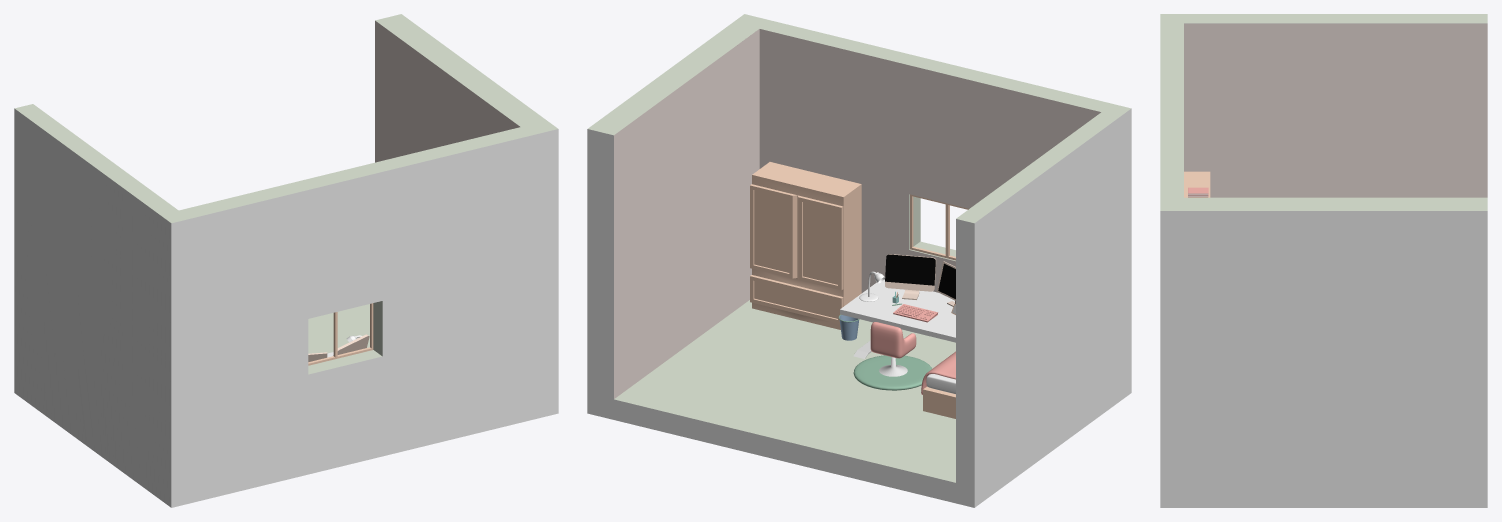
File: Study_Room_15.glb
3 renders of one model, left to right at view 1: azimuth 30°, elevation 25°; view 2: azimuth 150°, elevation 25°; view 3: azimuth 270°, elevation 25°, orthographic. The views are drawn at different scales.
Parts seen in each view (by area): view 1: Room, Window Frame; view 2: Room, Closet, Table Top, Rug, Desktop Screen, Chair, Bedframe, Window Frame; view 3: Room, Shelf.001.
Boxes of the visible parts, x1=… form: Room: x1=14, y1=14, x2=558, y2=507; Window Frame: x1=308, y1=303, x2=373, y2=365; Room: x1=587, y1=14, x2=1131, y2=507; Closet: x1=750, y1=162, x2=861, y2=329; Table Top: x1=840, y1=279, x2=955, y2=342; Rug: x1=853, y1=355, x2=931, y2=390; Desktop Screen: x1=885, y1=254, x2=935, y2=285; Chair: x1=870, y1=322, x2=916, y2=358; Bedframe: x1=923, y1=386, x2=955, y2=418; Window Frame: x1=910, y1=194, x2=968, y2=260; Room: x1=1160, y1=14, x2=1487, y2=507; Shelf.001: x1=1184, y1=171, x2=1210, y2=197.
Size of the model in its own units: 27.72 by 19.48 by 19.48.
